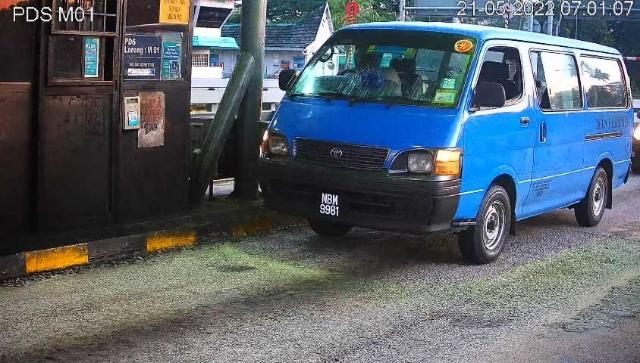License_Plate: (315, 191, 346, 223)
van: (258, 23, 635, 264)
